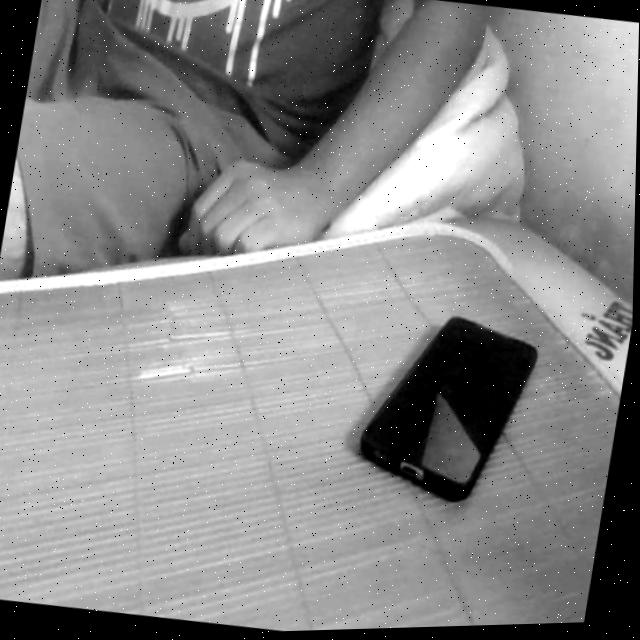phone: (336, 279, 562, 545)
